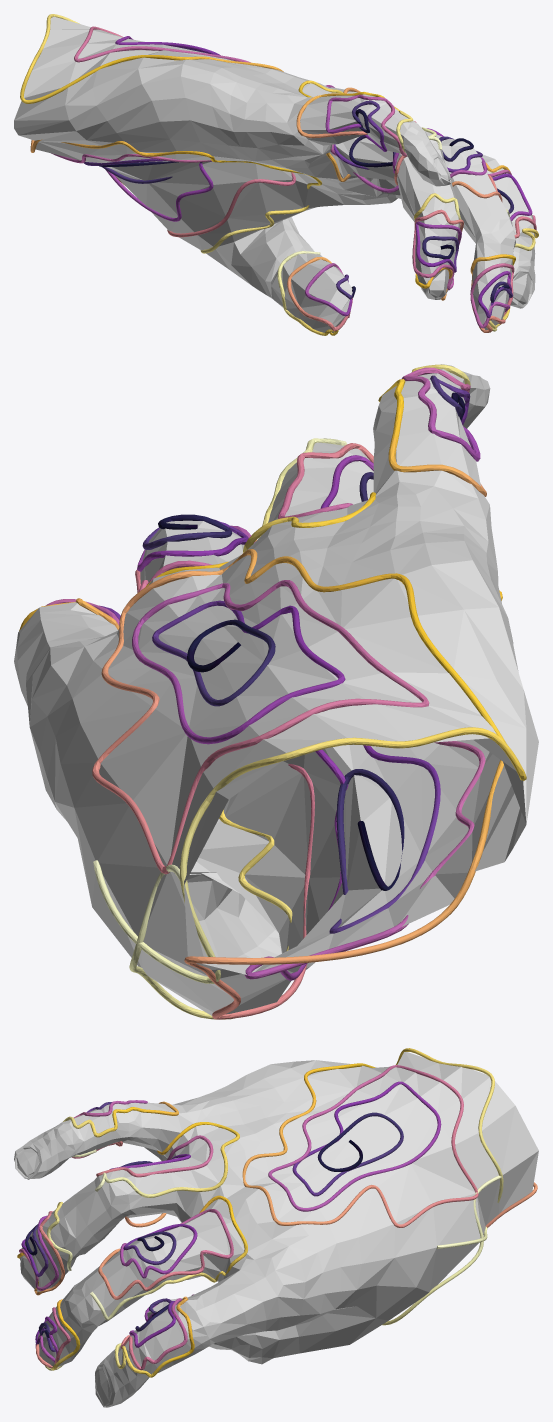
Rendered from hand_ours_all.glb.
3 views of the same model, one above another, from view 1: azimuth 30°, elevation 25°; view 2: azimuth 150°, elevation 25°; view 3: azimuth 270°, elevation 25° (orthographic). The views are drawn at different scales.
Parts seen in each view (by area): view 1: imagetostl_mesh0; view 2: imagetostl_mesh0; view 3: imagetostl_mesh0.
Part boxes in pixels (x1,y1,x2,y2): imagetostl_mesh0: (14, 14, 538, 335); imagetostl_mesh0: (14, 364, 538, 1019); imagetostl_mesh0: (14, 1048, 538, 1407).
Bounding box in the file's own units: 118 × 77.91 × 143.
